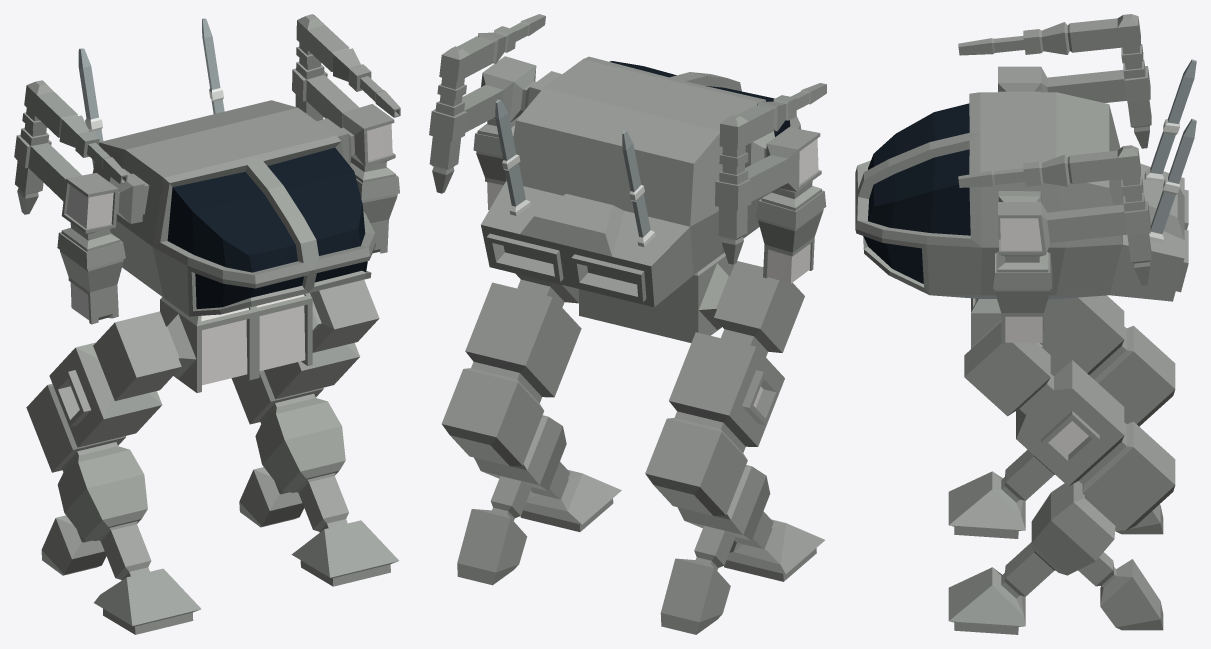
The model's file is robot_one_part.fbx.
The picture shows the model from 3 angles, left to right: view 1: azimuth 30°, elevation 25°; view 2: azimuth 150°, elevation 25°; view 3: azimuth 270°, elevation 25°; orthographic projection. The views are drawn at different scales.
Visible parts, largest first — view 1: RoboOnePartsBody, RoboOnePartsArm.R, RoboOnePartsLeg1.R, RoboOnePartsArm.L, RoboOnePartsTorso, RoboOnePartsFoot.R, RoboOnePartsFoot.L, RoboOnePartsLeg1.L, RoboOnePartsLeg2.R, RoboOnePartsLeg2.L; view 2: RoboOnePartsBody, RoboOnePartsLeg1.R, RoboOnePartsLeg1.L, RoboOnePartsArm.R, RoboOnePartsArm.L, RoboOnePartsFoot.L, RoboOnePartsFoot.R, RoboOnePartsTorso, RoboOnePartsLeg2.R, RoboOnePartsLeg2.L; view 3: RoboOnePartsBody, RoboOnePartsLeg1.L, RoboOnePartsArm.L, RoboOnePartsLeg1.R, RoboOnePartsArm.R, RoboOnePartsFoot.L, RoboOnePartsFoot.R, RoboOnePartsLeg2.L, RoboOnePartsTorso.
Part boxes in pixels (x1=…): RoboOnePartsBody: x1=78, y1=18, x2=376, y2=316; RoboOnePartsArm.R: x1=14, y1=80, x2=149, y2=324; RoboOnePartsLeg1.R: x1=26, y1=311, x2=196, y2=472; RoboOnePartsArm.L: x1=292, y1=14, x2=400, y2=253; RoboOnePartsTorso: x1=160, y1=293, x2=312, y2=392; RoboOnePartsFoot.R: x1=41, y1=515, x2=201, y2=634; RoboOnePartsFoot.L: x1=239, y1=467, x2=398, y2=586; RoboOnePartsLeg1.L: x1=231, y1=279, x2=379, y2=424; RoboOnePartsLeg2.R: x1=57, y1=442, x2=147, y2=540; RoboOnePartsLeg2.L: x1=255, y1=393, x2=345, y2=492; RoboOnePartsBody: x1=481, y1=56, x2=800, y2=307; RoboOnePartsLeg1.R: x1=645, y1=261, x2=804, y2=515; RoboOnePartsLeg1.L: x1=441, y1=273, x2=581, y2=466; RoboOnePartsArm.R: x1=715, y1=83, x2=826, y2=283; RoboOnePartsArm.L: x1=429, y1=14, x2=561, y2=209; RoboOnePartsFoot.L: x1=457, y1=462, x2=621, y2=585; RoboOnePartsFoot.R: x1=660, y1=511, x2=824, y2=634; RoboOnePartsTorso: x1=579, y1=252, x2=734, y2=342; RoboOnePartsLeg2.R: x1=677, y1=465, x2=770, y2=540; RoboOnePartsLeg2.L: x1=474, y1=415, x2=566, y2=490; RoboOnePartsBody: x1=855, y1=59, x2=1196, y2=301; RoboOnePartsLeg1.L: x1=964, y1=320, x2=1175, y2=531; RoboOnePartsArm.L: x1=958, y1=145, x2=1151, y2=344; RoboOnePartsLeg1.R: x1=1044, y1=295, x2=1175, y2=426; RoboOnePartsArm.R: x1=958, y1=14, x2=1151, y2=148; RoboOnePartsFoot.L: x1=948, y1=542, x2=1163, y2=634; RoboOnePartsFoot.R: x1=948, y1=449, x2=1163, y2=538; RoboOnePartsLeg2.L: x1=1031, y1=481, x2=1116, y2=575; RoboOnePartsTorso: x1=971, y1=298, x2=1044, y2=348.
Bounding box in the file's own units: 628 × 951 × 597.
